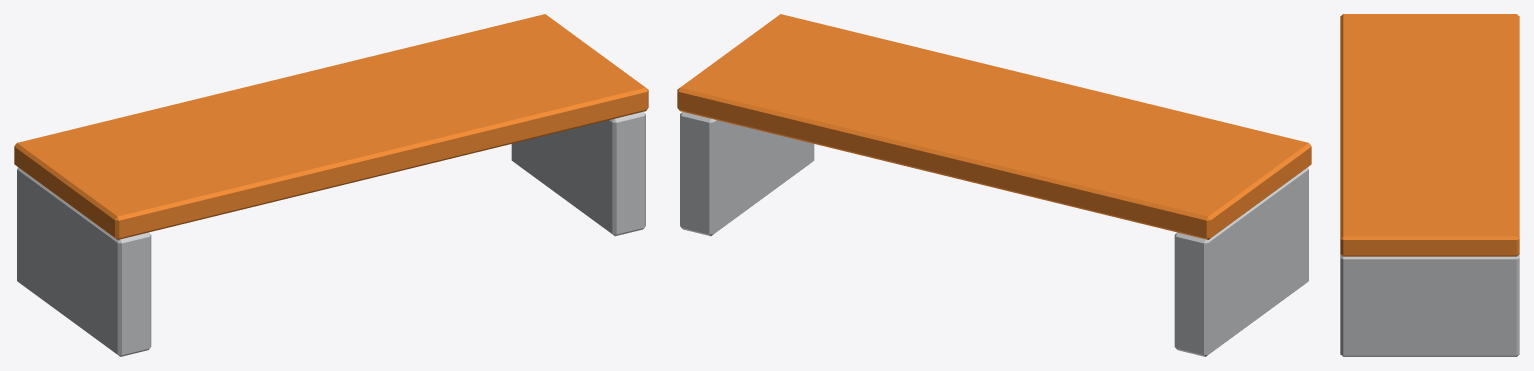
File: collapsible_bridge.glb
3 renders of one model, left to right at view 1: azimuth 30°, elevation 25°; view 2: azimuth 150°, elevation 25°; view 3: azimuth 270°, elevation 25°, orthographic. The views are drawn at different scales.
Visible parts, largest first — view 1: collapsible_bridge; view 2: collapsible_bridge; view 3: collapsible_bridge.
Boxes of the visible parts, bbox=[...] form: collapsible_bridge: bbox=[14, 14, 648, 356]; collapsible_bridge: bbox=[677, 14, 1311, 356]; collapsible_bridge: bbox=[1340, 14, 1519, 356].
Bounding box in the file's own units: 0.95 × 0.24 × 0.32.
